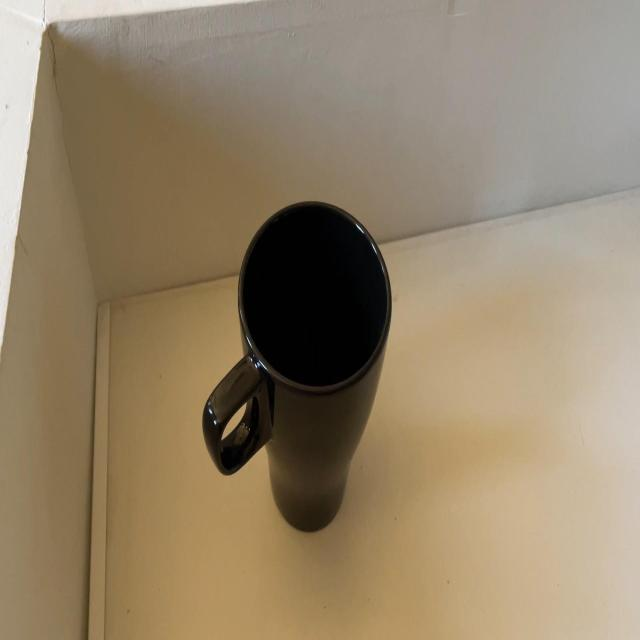cup: (204, 197, 394, 535)
